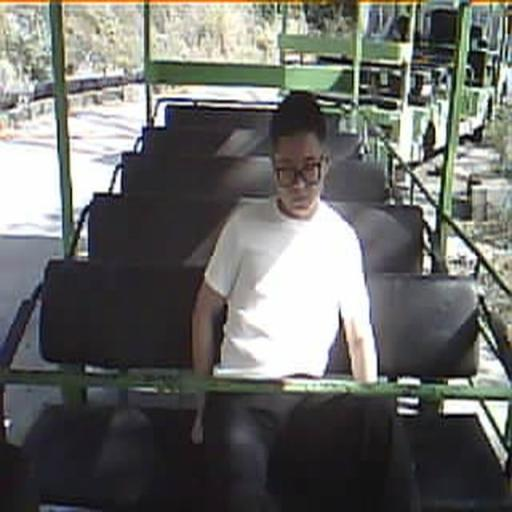persona: (189, 92, 379, 510)
